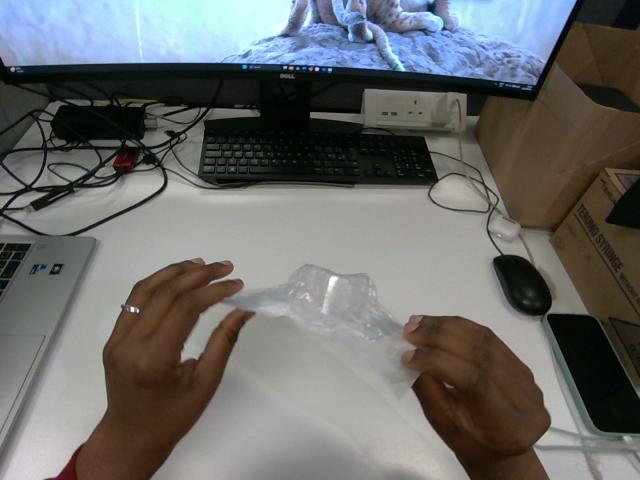gallipot: (224, 264, 417, 392)
